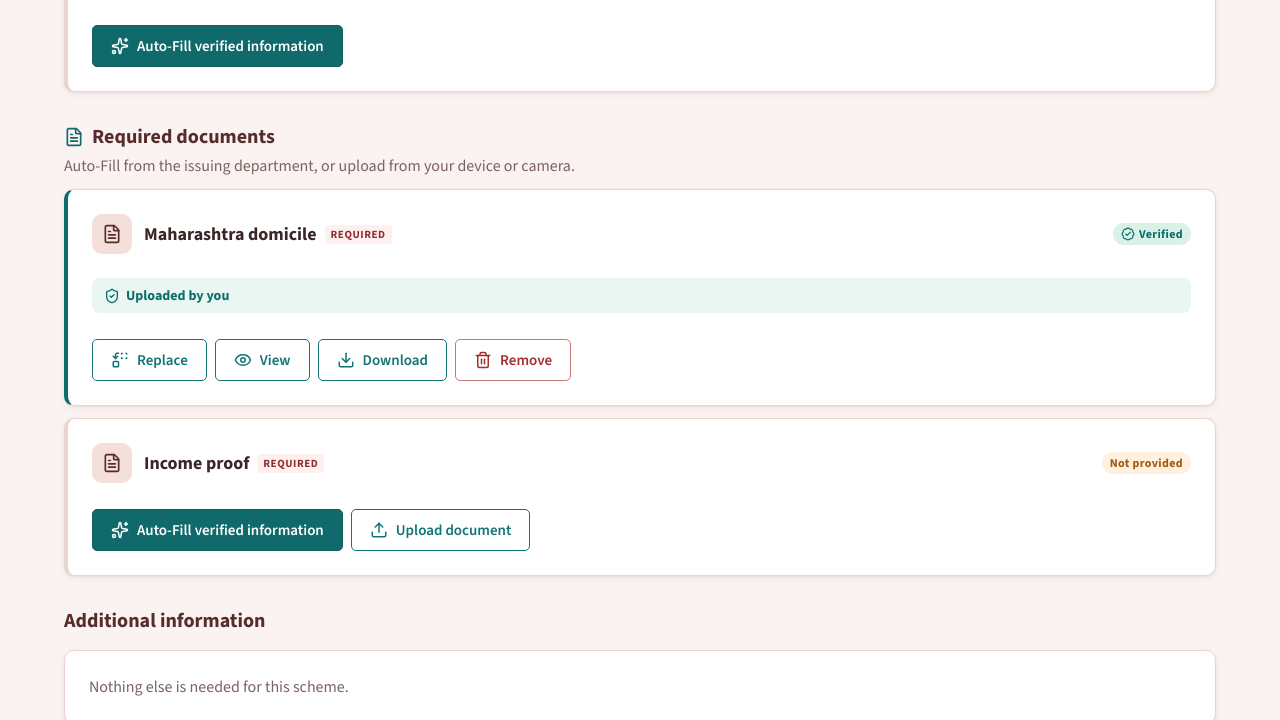
Scenario: ApplicationFormPage › with a loaded application › a confirmed citizen upload can be previewed as an image and removed before submission
(page scrolled)
Check: the button "Replace" is shown, box [92,340,207,382]
Click the button "View": [262, 360] box [215,340,310,382]
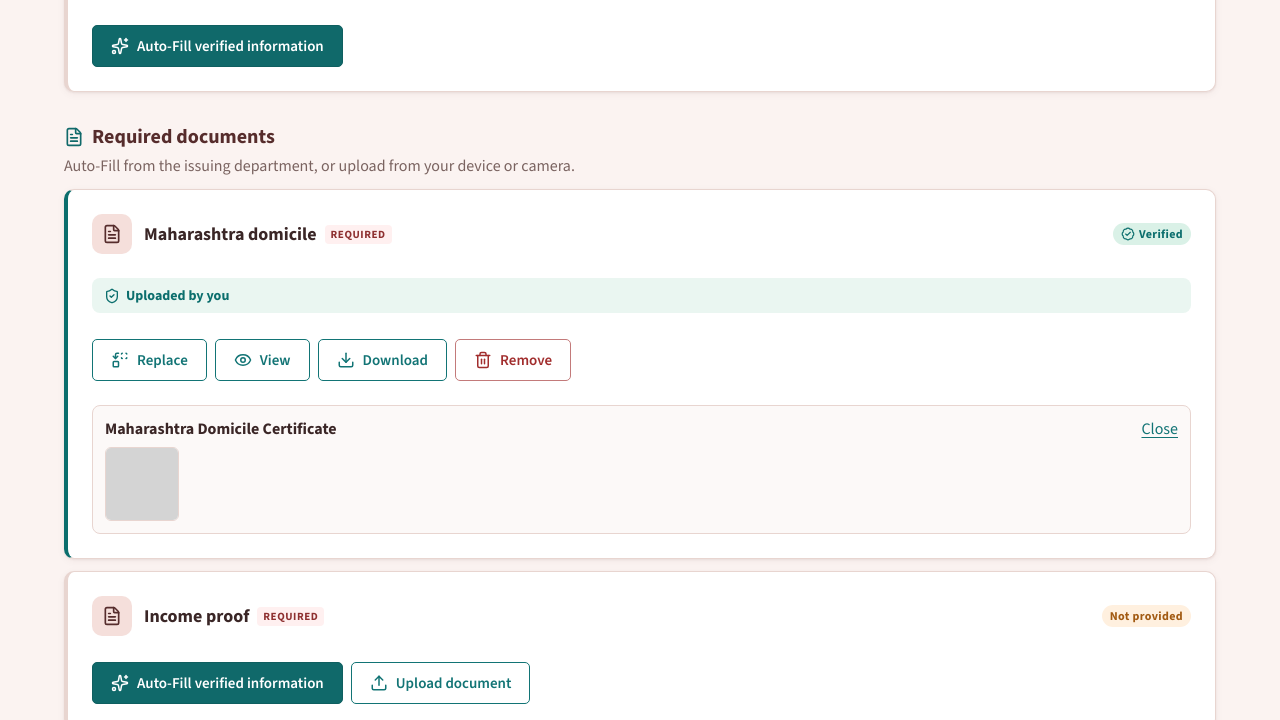
Click the button "Remove": [513, 360] box [455,340,571,382]
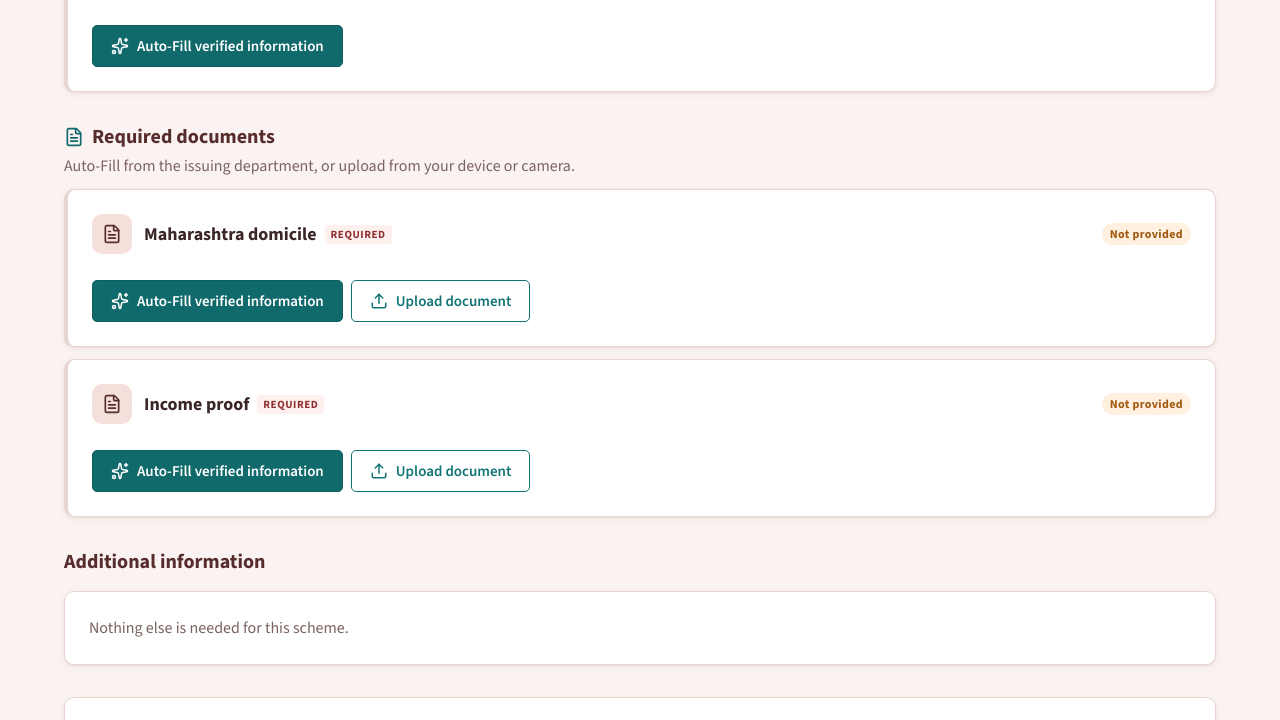
Check: the text "Not provided" in the row of "Maharashtra domicile" is shown, box [1110,226,1183,242]
